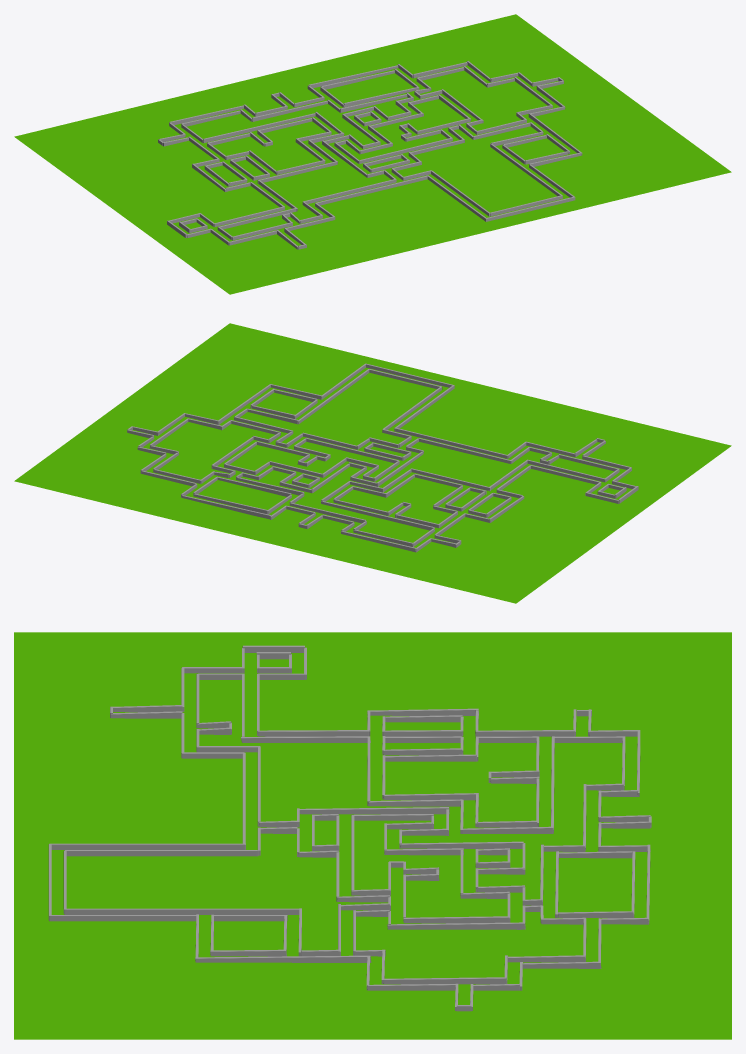
File: Stage_01.fbx
3 views of the same model, one above another, from view 1: azimuth 30°, elevation 25°; view 2: azimuth 150°, elevation 25°; view 3: azimuth 270°, elevation 25° (orthographic). The views are drawn at different scales.
Parts seen in each view (by area): view 1: Ground, pasted__pasted__pasted__pasted__pasted__pasted__pasted__past, pasted__pasted__pasted__Wall_Grass_1; view 2: Ground, pasted__pasted__pasted__Wall_Grass_1, pasted__pasted__pasted__pasted__pasted__pasted__pasted__past; view 3: Ground, pasted__pasted__pasted__pasted__pasted__pasted__pasted__past (×7), pasted__pasted__pasted__pasted__pasted__pasted__Wall_Grass_2 (×2), pasted__pasted__pasted__pasted__pasted__Wall_Grass_1 (×2), pasted__pasted__pasted__pasted__pasted__Wall_Grass_2 (×2), pasted__pasted__pasted__pasted__pasted__pasted__Wall_Grass_1 (×2), pasted__pasted__pasted__pasted__pasted__pasted__pasted__Wall.
Part boxes in pixels (x1=…): Ground: x1=14, y1=14, x2=731, y2=294; pasted__pasted__pasted__pasted__pasted__pasted__pasted__past: x1=203, y1=113, x2=315, y2=143; pasted__pasted__pasted__Wall_Grass_1: x1=315, y1=175, x2=427, y2=205; Ground: x1=14, y1=323, x2=731, y2=603; pasted__pasted__pasted__Wall_Grass_1: x1=395, y1=428, x2=507, y2=458; pasted__pasted__pasted__pasted__pasted__pasted__pasted__past: x1=321, y1=501, x2=434, y2=530; Ground: x1=14, y1=632, x2=731, y2=1039; pasted__pasted__pasted__pasted__pasted__pasted__pasted__past (×7): x1=195, y1=799, x2=525, y2=984; pasted__pasted__pasted__pasted__pasted__pasted__Wall_Grass_2 (×2): x1=64, y1=708, x2=478, y2=914; pasted__pasted__pasted__pasted__pasted__Wall_Grass_1 (×2): x1=64, y1=736, x2=370, y2=856; pasted__pasted__pasted__pasted__pasted__Wall_Grass_2 (×2): x1=49, y1=730, x2=369, y2=849; pasted__pasted__pasted__pasted__pasted__pasted__Wall_Grass_1 (×2): x1=49, y1=754, x2=477, y2=921; pasted__pasted__pasted__pasted__pasted__pasted__pasted__Wall: x1=475, y1=730, x2=575, y2=736.
Size of the model in its own units: 6334 by 68.19 by 4716.
